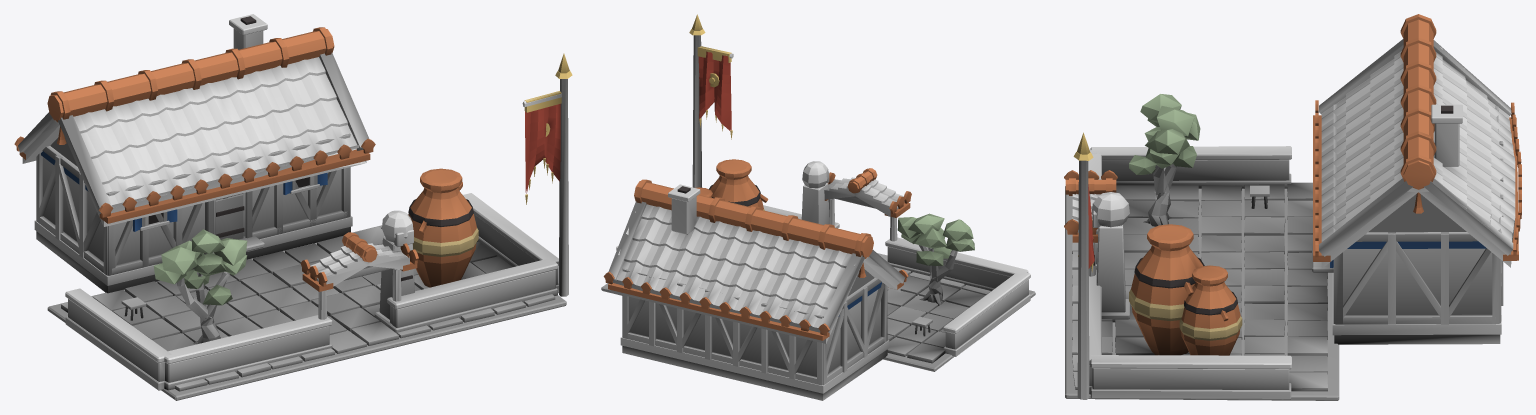
The model's file is house-l1.glb.
3 views of the same model, side by side, from view 1: azimuth 30°, elevation 25°; view 2: azimuth 150°, elevation 25°; view 3: azimuth 270°, elevation 25° (orthographic). The views are drawn at different scales.
Visible parts, largest first — view 1: house-l1; view 2: house-l1; view 3: house-l1.
Part boxes in pixels (x1,y1,x2,y2): house-l1: [14, 14, 572, 400]; house-l1: [601, 14, 1035, 400]; house-l1: [1064, 14, 1521, 400].
Bounding box in the file's own units: 1.42 × 0.81 × 1.24.
